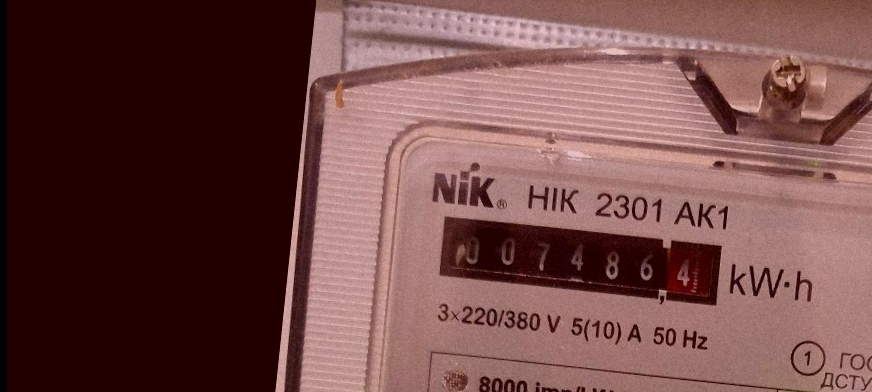0: (460, 232, 483, 268), (497, 233, 518, 268)
4: (566, 238, 587, 274), (673, 254, 693, 289)
6: (636, 250, 658, 284)
7: (529, 238, 555, 273)
8: (602, 248, 623, 284)
screen: (428, 204, 733, 318)
